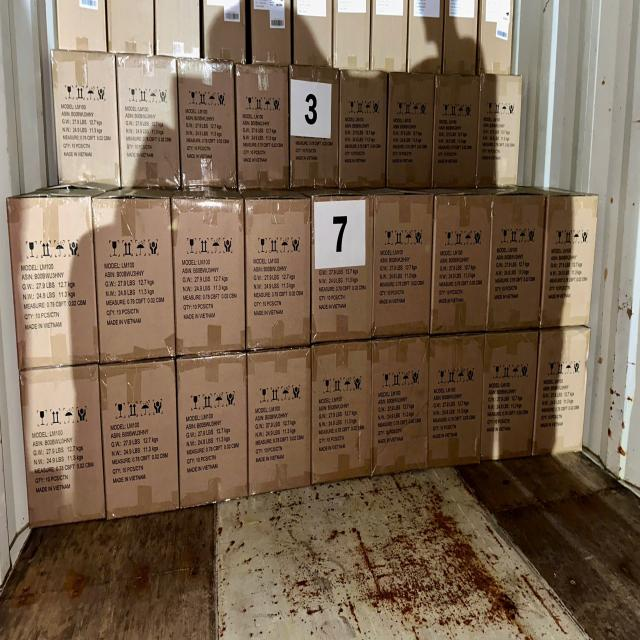Carton: (10, 193, 101, 367), (94, 195, 178, 356), (22, 365, 107, 521), (100, 362, 181, 512), (174, 198, 249, 354), (178, 359, 251, 501), (246, 200, 315, 348), (246, 352, 312, 489), (311, 198, 375, 339), (370, 192, 430, 332), (311, 346, 373, 480), (436, 195, 493, 332), (372, 340, 431, 472), (492, 193, 544, 327), (428, 336, 482, 462), (483, 334, 535, 459), (545, 196, 593, 328), (538, 331, 589, 455)
